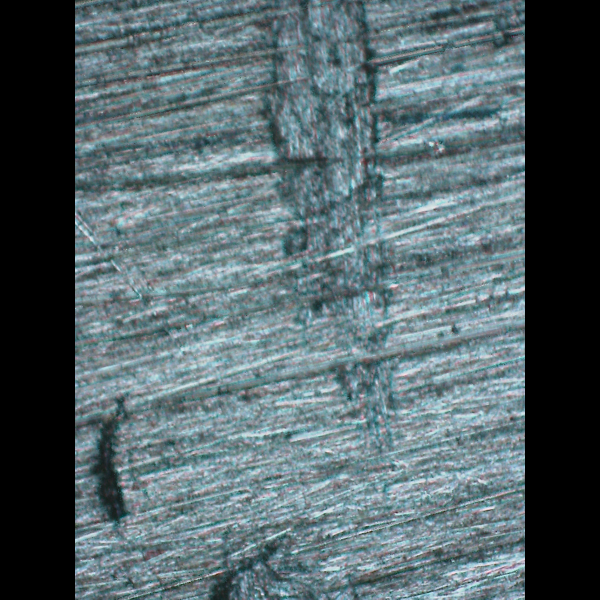d: (264, 0, 406, 448)
